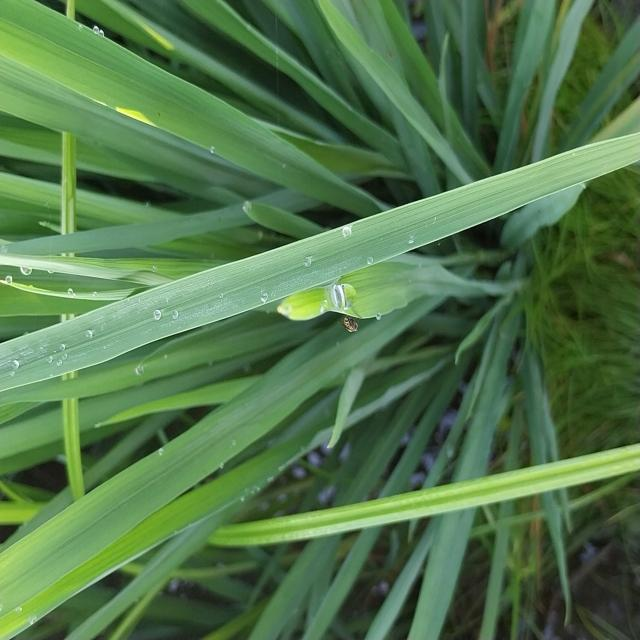healthy: (335, 307, 367, 337)
